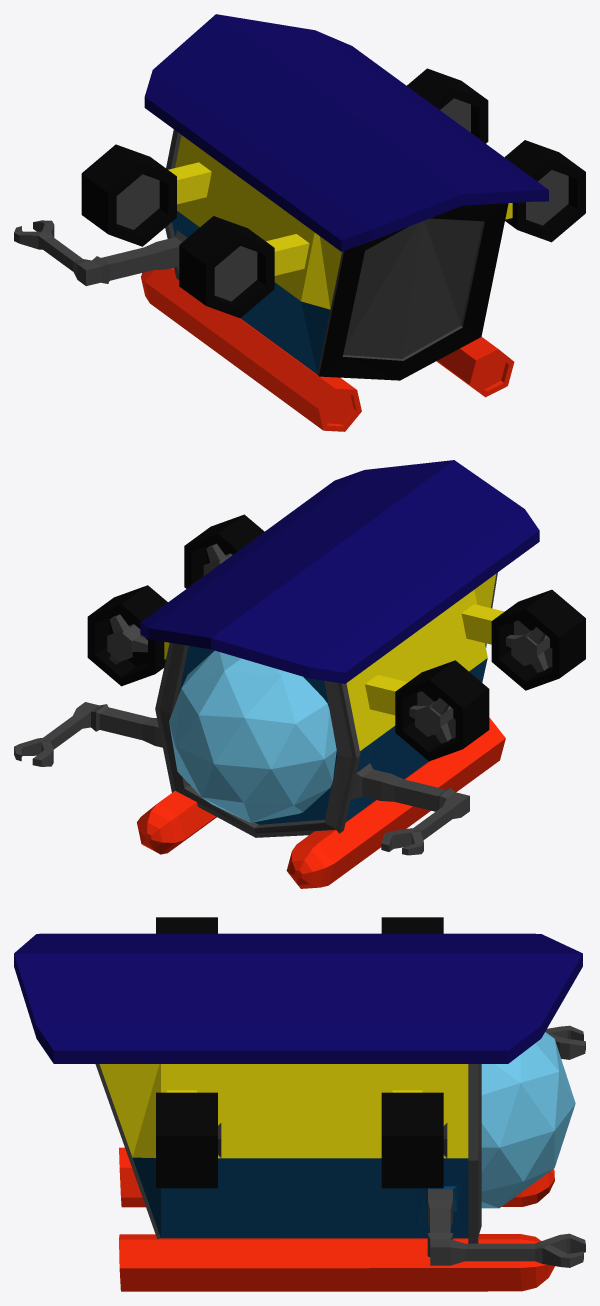
File: submarine.glb
The picture shows the model from 3 angles, top to bottom: view 1: azimuth 30°, elevation 25°; view 2: azimuth 150°, elevation 25°; view 3: azimuth 270°, elevation 25°; orthographic projection. The views are drawn at different scales.
Parts seen in each view (by area): view 1: Cylinder.001; view 2: Cylinder.001; view 3: Cylinder.001.
Boxes of the visible parts, x1=… form: Cylinder.001: x1=14, y1=14, x2=585, y2=431; Cylinder.001: x1=14, y1=460, x2=585, y2=888; Cylinder.001: x1=14, y1=917, x2=585, y2=1291.
Bounding box in the file's own units: 1.46 × 0.8614 × 1.52.
